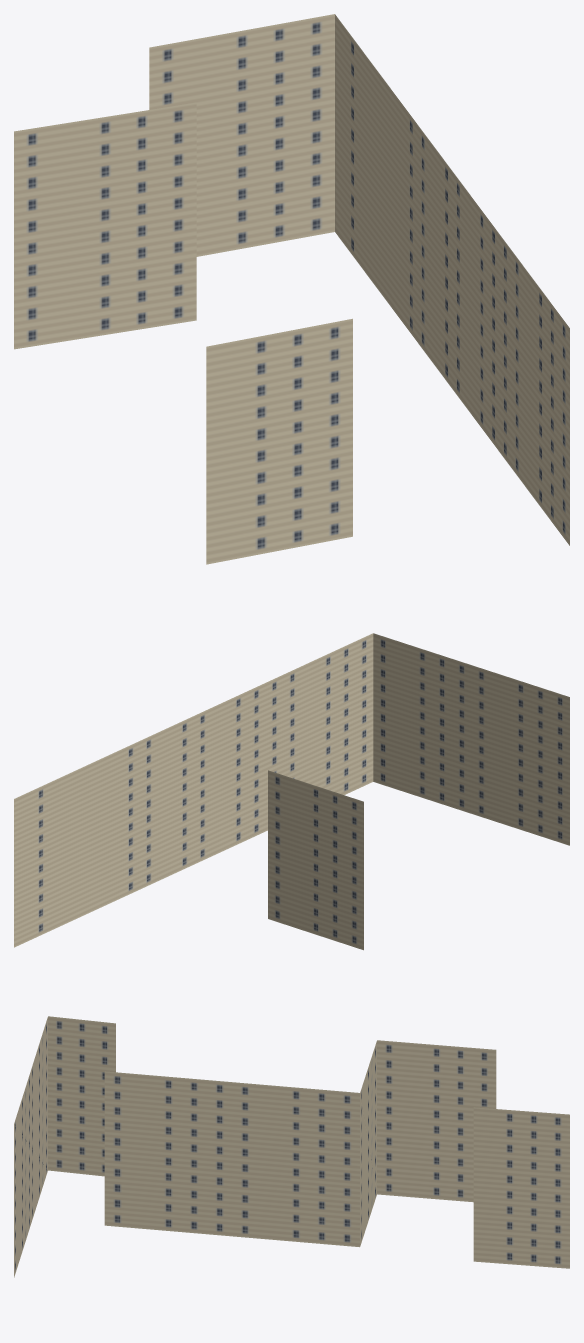
The picture shows the model from 3 angles, top to bottom: view 1: azimuth 30°, elevation 25°; view 2: azimuth 150°, elevation 25°; view 3: azimuth 270°, elevation 25°; orthographic projection. The views are drawn at different scales.
Size of the model in its own units: 66 by 30 by 98.
Materials: 2 (2 with a texture image).
